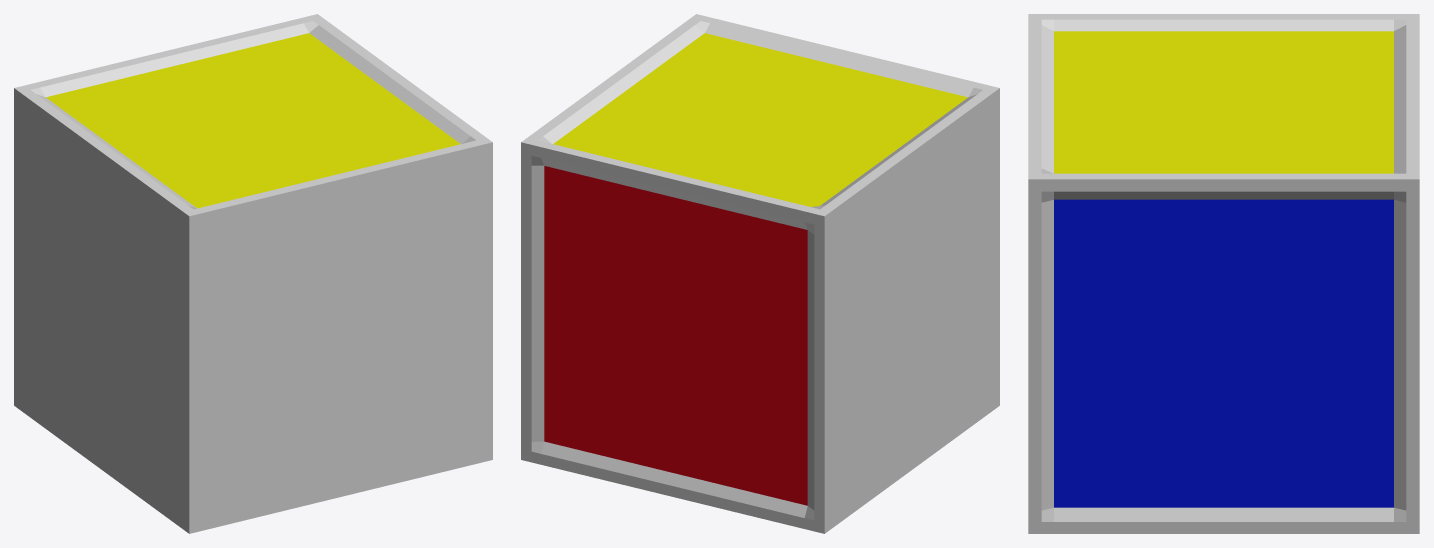
3 renders of one model, left to right at view 1: azimuth 30°, elevation 25°; view 2: azimuth 150°, elevation 25°; view 3: azimuth 270°, elevation 25°, orthographic. The views are drawn at different scales.
Parts seen in each view (by area): view 1: Cube; view 2: Cube; view 3: Cube.
Part boxes in pixels (<box>): Cube: <box>14,14,492,533</box>; Cube: <box>521,14,999,533</box>; Cube: <box>1028,14,1419,533</box>.
Bounding box in the file's own units: 2 × 2 × 2.
